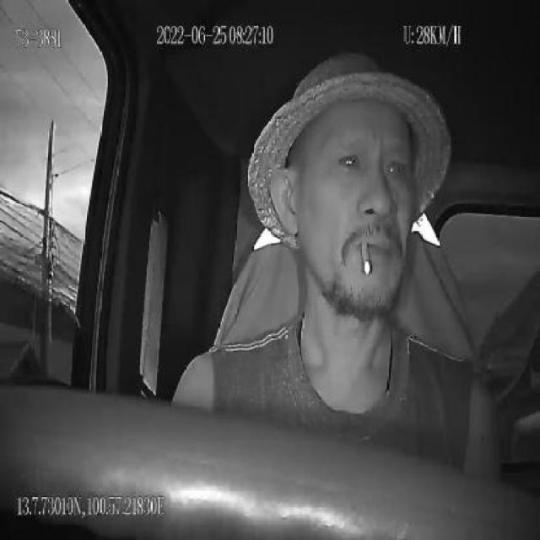smoking: (361, 239, 374, 277)
